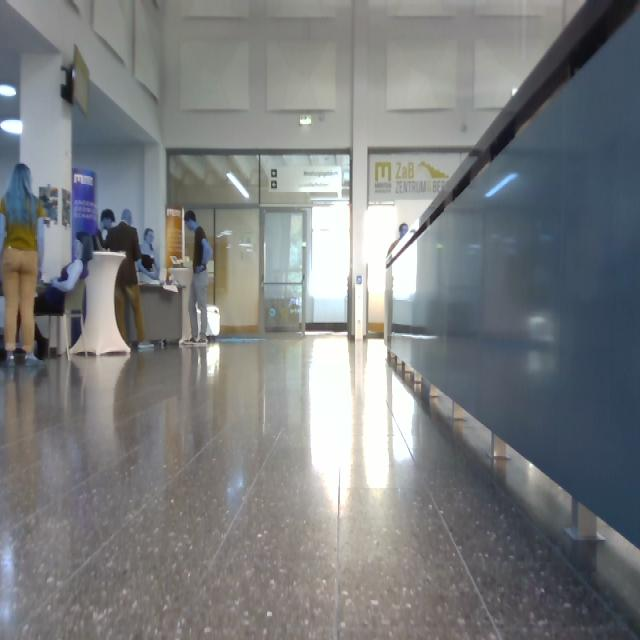door: (306, 208, 350, 332), (215, 210, 258, 333), (265, 212, 305, 332)
light bulb: (1, 120, 23, 136), (1, 85, 17, 97), (300, 114, 311, 125)
person: (1, 164, 48, 360), (102, 210, 153, 346), (36, 233, 95, 316), (186, 212, 213, 344), (137, 229, 159, 282), (388, 224, 408, 257)
staircase: (385, 1, 640, 554)
table: (70, 252, 131, 354)
tiled floor: (1, 336, 640, 640)
